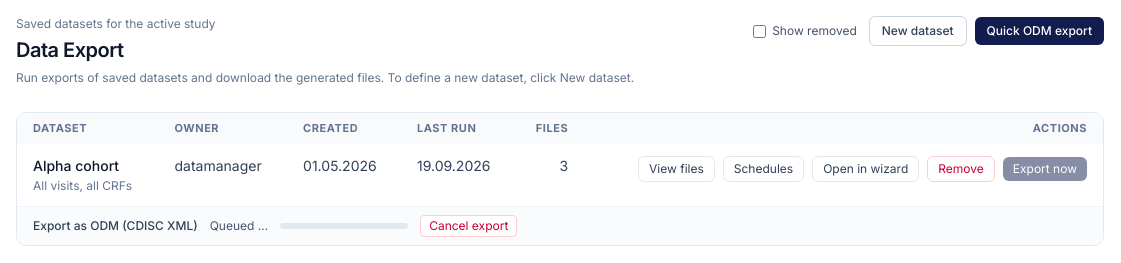
Test case: DatasetListView — cancel an export (R1-export) › a cancelled export frees the row
Click the button with test id "export-job-cancel".
click(469, 226)  # box [420, 215, 517, 237]
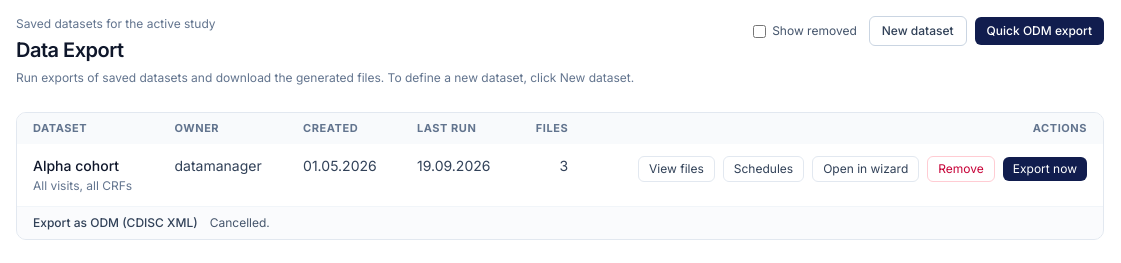
Now the text with test id "export-job-cancelled" reads "Cancelled.", box [210, 215, 270, 230]
